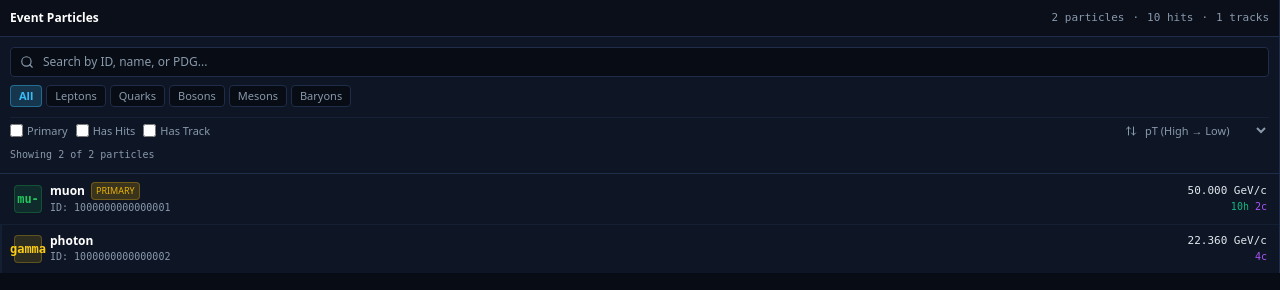
Test: ParticleTable › filters particles by search query
Type "photon" into the field with placeholder "Search by ID, name, or PDG...". click: (640, 62)
box: top-left (10, 47), bottom-right (1269, 77)
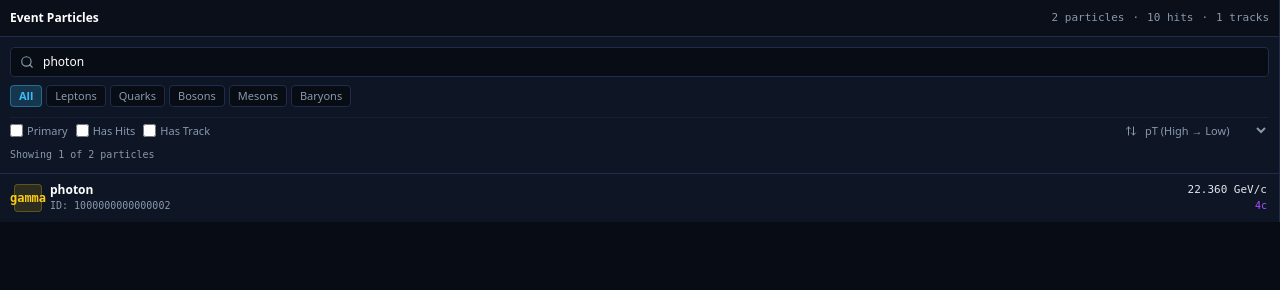
Expected: the text "photon" is shown, top-left (50, 182), bottom-right (93, 198)
Expected: the text "muon" is gone
